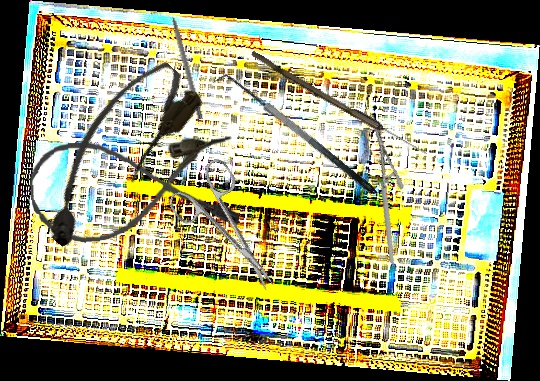Cannula: (17, 49, 209, 258), (27, 131, 241, 247)
Hook Surgical: (166, 1, 205, 120)
Iris Scissors: (162, 155, 297, 309)
Needle Holder: (344, 125, 424, 265)
Spatula Surgical: (212, 63, 377, 208)
Surgical Spoon: (248, 50, 430, 158)
